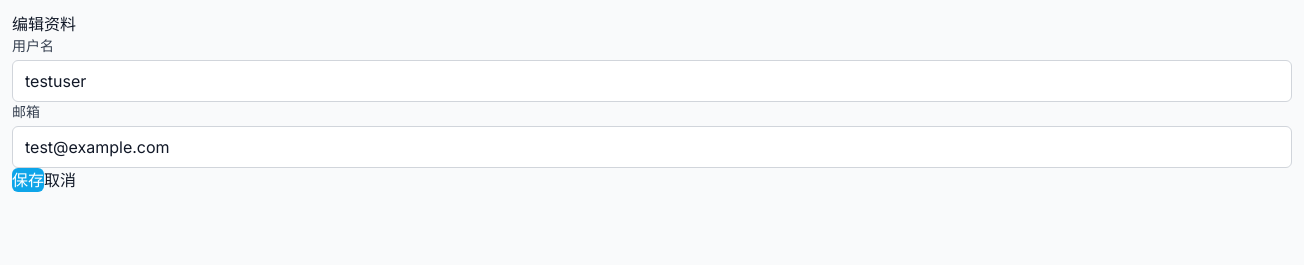
Test case: ProfileForm - 提交失败场景 › 应该处理未认证错误 (401)
Replace the text in the field labelled "用户名" with "newuser" at {"x": 652, "y": 81}, box [12,60,1292,102]
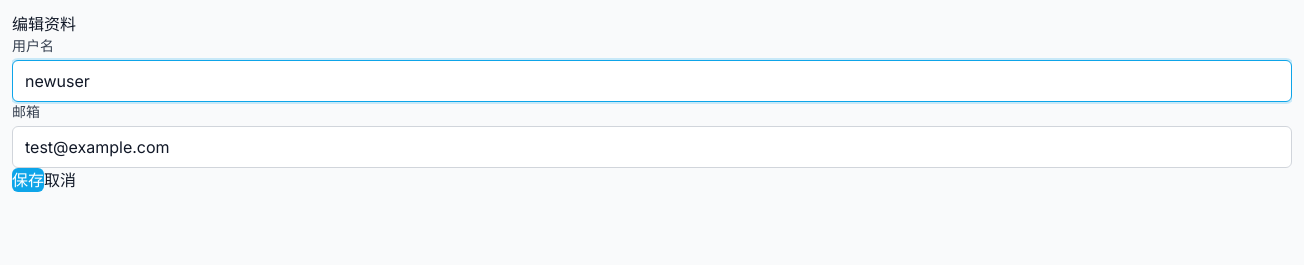
Click the button "保存" at {"x": 28, "y": 180}, box [12,168,44,192]
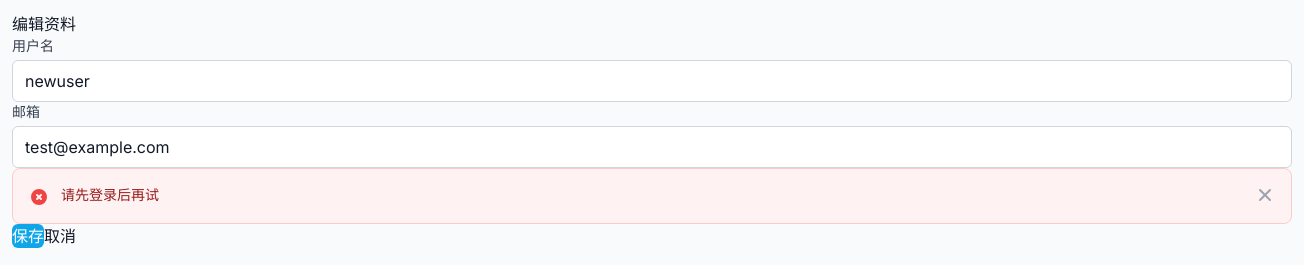
Check: the text "请先登录后再试" is shown, box [61,186,159,203]
